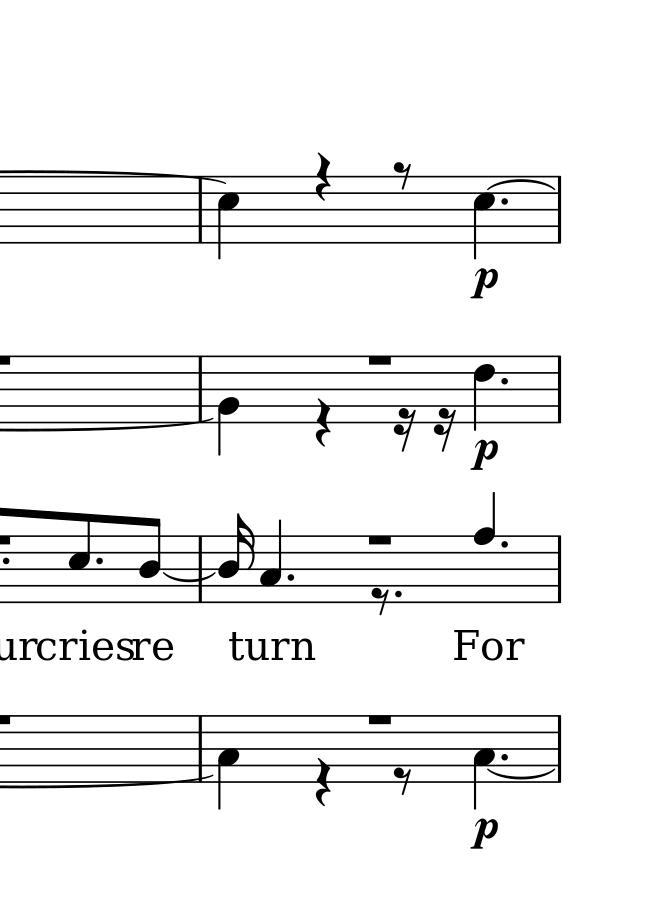16_4: (216, 512, 254, 605)
4_2: (215, 352, 241, 459)
4_3: (215, 713, 242, 808), (258, 515, 286, 604), (471, 713, 496, 812)
4_5: (470, 175, 498, 261), (214, 175, 241, 261)
4_6: (471, 351, 499, 429)
4_8: (471, 487, 497, 608)
8_4: (137, 515, 162, 605)
8_5: (68, 512, 93, 607)
Rests1: (364, 351, 399, 373), (361, 533, 397, 550), (366, 712, 393, 728)
Rests16: (392, 405, 417, 452), (432, 407, 457, 451)
Rests4: (311, 397, 333, 449), (314, 753, 335, 807), (315, 151, 334, 202)
Rests8: (391, 762, 415, 796), (391, 159, 413, 191), (369, 588, 395, 614)
Single_barline: (190, 715, 208, 783), (550, 714, 567, 784), (192, 536, 209, 602), (191, 180, 209, 242), (550, 537, 567, 602), (551, 355, 567, 423), (192, 355, 208, 422), (551, 175, 567, 242)
Slur: (488, 179, 555, 190), (161, 571, 215, 584), (486, 769, 556, 779)
dot: (92, 553, 106, 569), (498, 373, 511, 388), (391, 587, 404, 602), (497, 195, 510, 209), (498, 538, 511, 552), (498, 750, 511, 763), (285, 570, 296, 584)
p: (470, 812, 505, 854), (469, 434, 497, 469), (472, 268, 497, 304)
